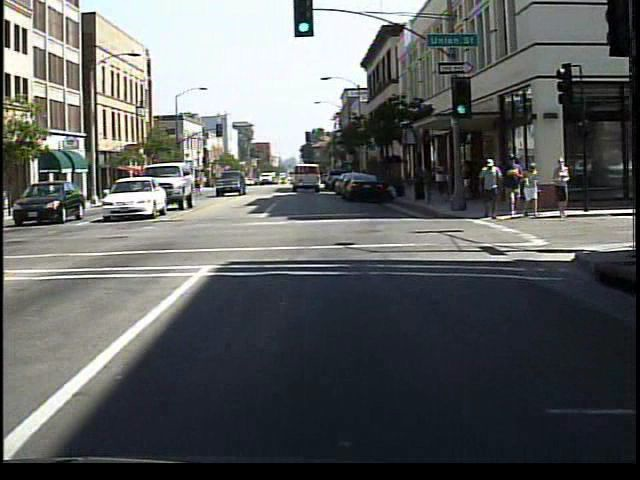person: (477, 155, 505, 224), (550, 156, 576, 223), (501, 152, 526, 219), (523, 157, 544, 223), (433, 156, 453, 206), (191, 172, 209, 200)
